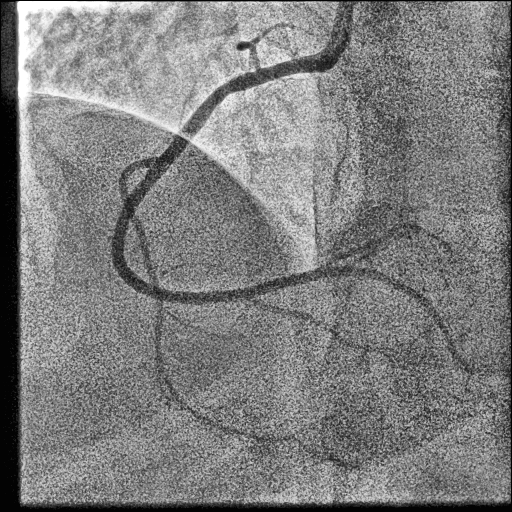pborca: (325, 224, 452, 266)
pda: (328, 265, 500, 377)
rca: (111, 51, 330, 304)
